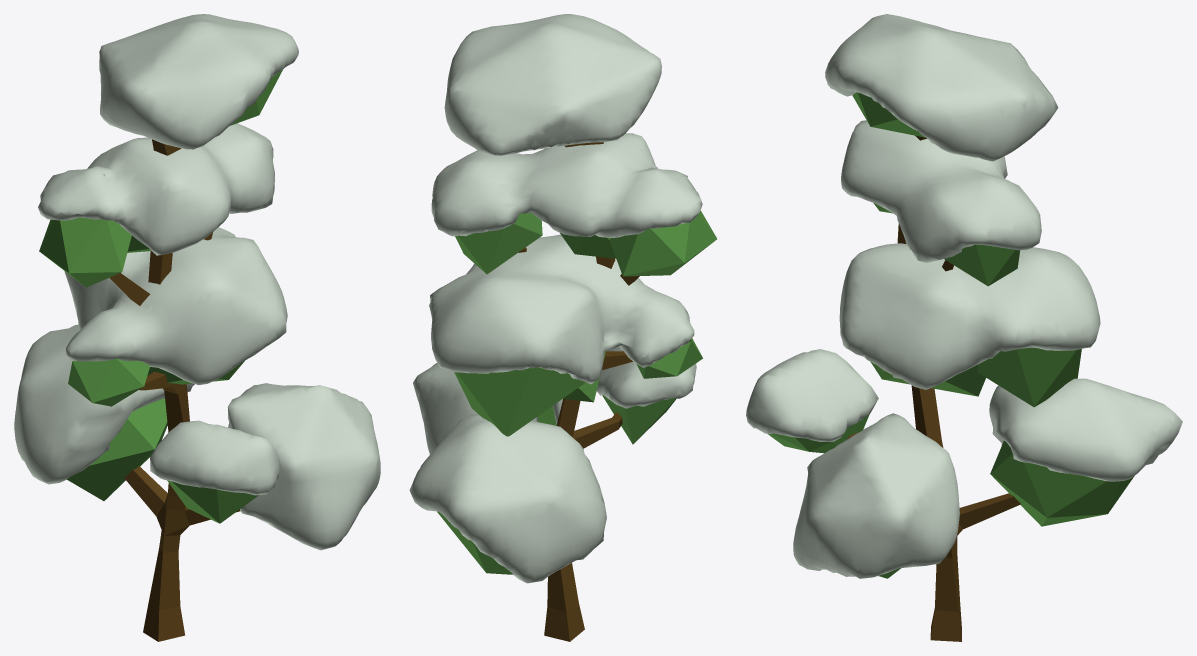
File: Tree-6.fbx
The picture shows the model from 3 angles, left to right: view 1: azimuth 30°, elevation 25°; view 2: azimuth 150°, elevation 25°; view 3: azimuth 270°, elevation 25°; orthographic projection. The views are drawn at different scales.
Parts seen in each view (by area): view 1: Tree-6; view 2: Tree-6; view 3: Tree-6.
Boxes of the visible parts, box(x1,y1,x2,y2) form: Tree-6: box(14, 14, 380, 641); Tree-6: box(409, 14, 716, 641); Tree-6: box(746, 14, 1182, 641).
Bounding box in the file's own units: 10.86 × 20.48 × 13.15.
